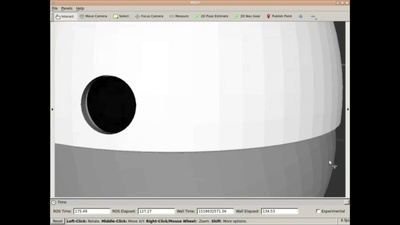mira_robot: (54, 22, 343, 196)
